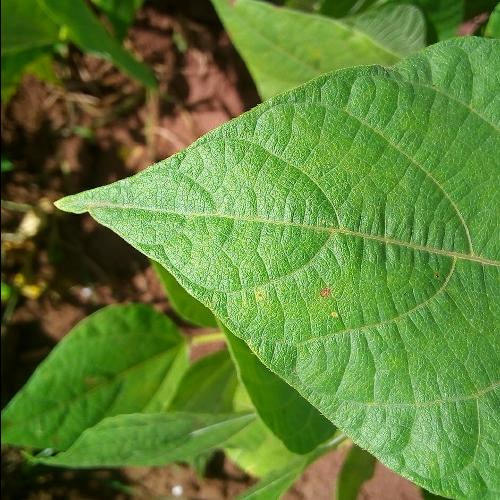hawar: (240, 269, 351, 326)
sehat: (380, 68, 500, 426)
